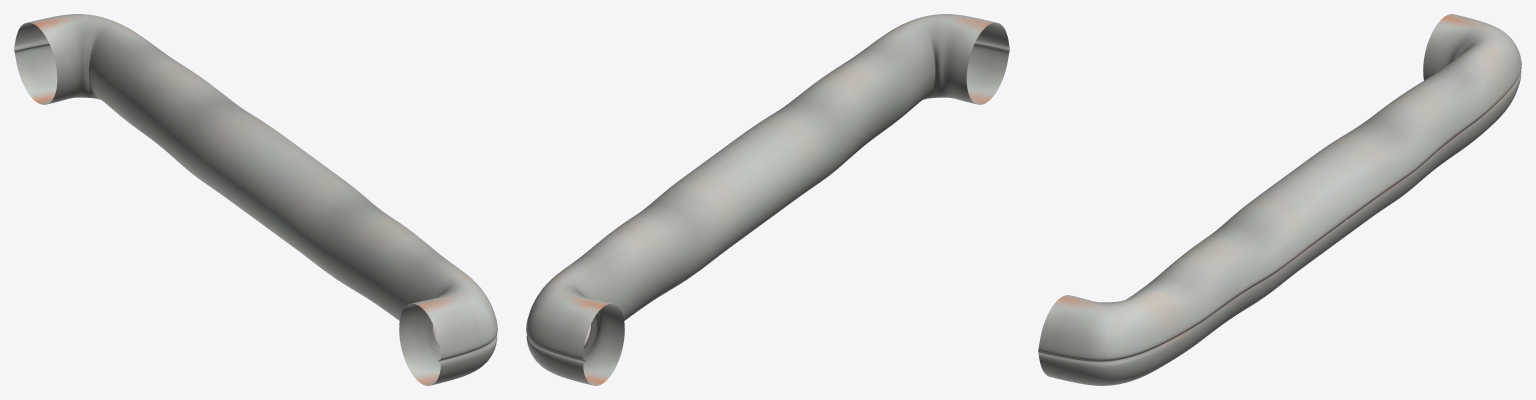
3 views of the same model, side by side, from view 1: azimuth 30°, elevation 25°; view 2: azimuth 150°, elevation 25°; view 3: azimuth 330°, elevation 25° (orthographic).
Parts seen in each view (by area): view 1: Cylinder; view 2: Cylinder; view 3: Cylinder.
Boxes of the visible parts, <box> form: Cylinder: <box>14,14,497,385</box>; Cylinder: <box>526,14,1009,385</box>; Cylinder: <box>1038,14,1521,385</box>.
Bounding box in the file's own units: 0.616 × 0.4739 × 4.66.
Materials: 1 (1 with a texture image).
